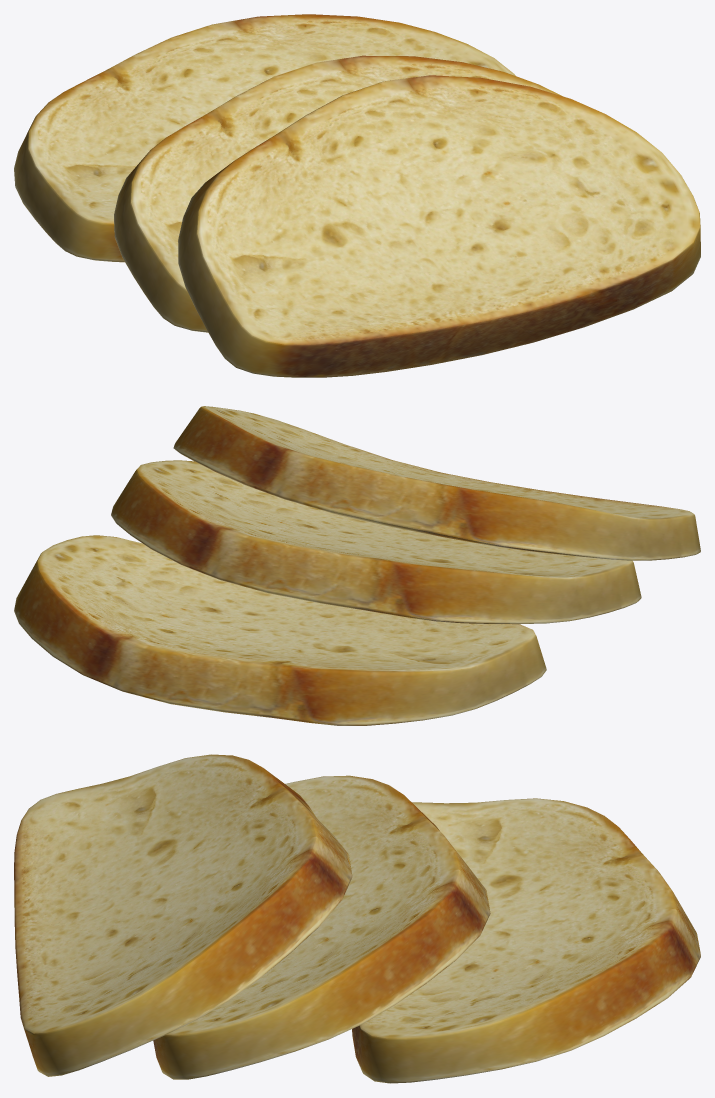
The model's file is bread slices.glb.
3 renders of one model, top to bottom at view 1: azimuth 30°, elevation 25°; view 2: azimuth 150°, elevation 25°; view 3: azimuth 270°, elevation 25°, orthographic. The views are drawn at different scales.
Visible parts, largest first — view 1: Sliced Bread.004; view 2: Sliced Bread.004; view 3: Sliced Bread.004.
Part boxes in pixels (x1=…): Sliced Bread.004: x1=14, y1=14, x2=700, y2=377; Sliced Bread.004: x1=14, y1=406, x2=700, y2=725; Sliced Bread.004: x1=14, y1=754, x2=700, y2=1083.
Size of the model in its own units: 0.1437 by 0.0463 by 0.169.
1 material, 1 textured.
